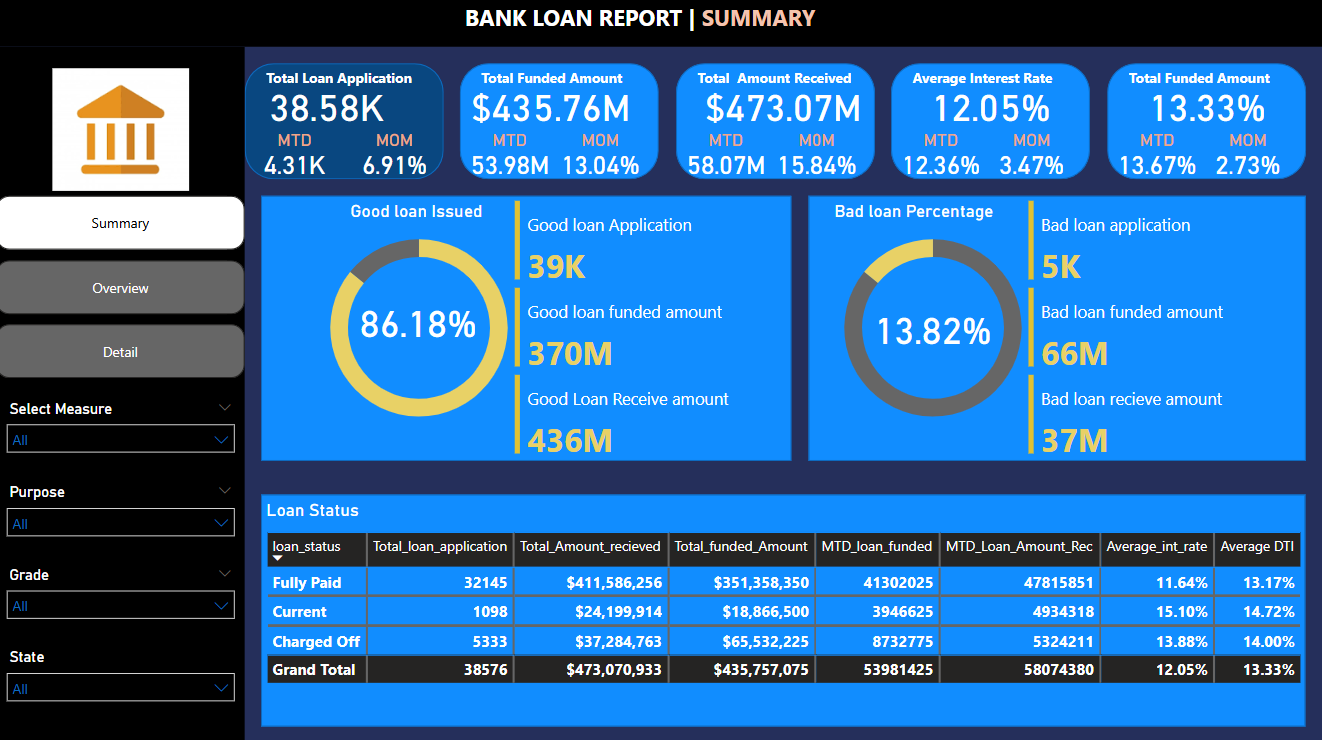

This screenshot's page, from the dashboard's own definition file:
{"tool":"powerbi","page":{"name":"Summary","canvas":[1280,720],"ordinal":0},"visuals":[{"type":"shape","box":[0,48,240,672],"z":0},{"type":"shape","box":[448,64,192,112],"z":0,"group":"g1"},{"type":"shape","box":[656,64,192,112],"z":0,"group":"g2"},{"type":"shape","box":[864,64,192,112],"z":0,"group":"g3"},{"type":"shape","box":[1072,64,192,112],"z":0,"group":"g4"},{"type":"shape","box":[0,0,1280,48],"z":1000},{"type":"card","title":"Total Funded Amount","fields":{"Values":["financial_loan.Total_funded_Amount"]},"box":[448,64,176,80],"z":1000,"group":"g1"},{"type":"card","title":"Total Funded Amount","fields":{"Values":["financial_loan.Total_Amount_recieved"]},"box":[672,64,176,80],"z":1000,"group":"g2"},{"type":"card","title":"Total Funded Amount","fields":{"Values":["financial_loan.Average_int_rate"]},"box":[896,64,128,80],"z":1000,"group":"g3"},{"type":"card","title":"Total Funded Amount","fields":{"Values":["financial_loan.Average DTI"]},"box":[1104,64,128,80],"z":1000,"group":"g4"},{"type":"textbox","box":[464,64,192,32],"z":2000,"group":"g1"},{"type":"textbox","box":[672,64,192,32],"z":2000,"group":"g2"},{"type":"textbox","box":[880,64,192,32],"z":2000,"group":"g3"},{"type":"textbox","box":[1088,64,192,32],"z":2000,"group":"g4"},{"type":"shape","box":[784,192,480,256],"z":2000},{"type":"card","title":"MTD","fields":{"Values":["financial_loan.MTD_loan_funded"]},"box":[448,128,96,48],"z":3000,"group":"g1"},{"type":"card","title":"MTD","fields":{"Values":["financial_loan.MTD_Loan_Amount_Rec"]},"box":[656,128,96,48],"z":3000,"group":"g2"},{"type":"card","title":"MTD","fields":{"Values":["financial_loan.MTD_average_Rate"]},"box":[864,128,96,48],"z":3000,"group":"g3"},{"type":"card","title":"MTD","fields":{"Values":["financial_loan.MTD DTI"]},"box":[1072,128,96,48],"z":3000,"group":"g4"},{"type":"shape","box":[256,192,512,256],"z":3000},{"type":"textbox","box":[448,0,416,48],"z":4000},{"type":"card","title":"MOM","fields":{"Values":["financial_loan.MTM_loan_funded%"]},"box":[528,128,112,48],"z":4000,"group":"g1"},{"type":"card","title":"M0M","fields":{"Values":["financial_loan.MOM_loan_Receve%"]},"box":[736,128,112,48],"z":4000,"group":"g2"},{"type":"card","title":"MOM","fields":{"Values":["financial_loan.MOM_Average%"]},"box":[944,128,112,48],"z":4000,"group":"g3"},{"type":"card","title":"MOM","fields":{"Values":["financial_loan.MOM DTI %"]},"box":[1152,128,112,48],"z":4000,"group":"g4"},{"type":"textbox","box":[784,192,208,36.3],"z":5000},{"type":"card","fields":{"Values":["financial_loan.Bad loan percentage"]},"box":[832,272,144,96],"z":6000},{"type":"textbox","box":[304,192,208,29.9],"z":7000},{"type":"shape","box":[240,64,192,112],"z":8000},{"type":"card","fields":{"Values":["financial_loan.Good loan %"]},"box":[320,251.7,176,119.5],"z":9000},{"type":"card","title":"Total Loan Aplication","fields":{"Values":["CountNonNull(financial_loan.id)"]},"box":[208,80,224,48],"z":10000},{"type":"textbox","box":[256,64,176,32],"z":11000},{"type":"card","title":"MTD","fields":{"Values":["financial_loan.MTD_Loan_app"]},"box":[240,128,96,48],"z":12000},{"type":"card","title":"MOM","fields":{"Values":["financial_loan.MTM_loan aplication"]},"box":[336,128,96,48],"z":13000},{"type":"group","id":"g1","title":"Group 1","box":[448,64,208,112],"z":14000},{"type":"group","id":"g2","title":"Group 1","box":[656,64,208,112],"z":15000},{"type":"group","id":"g3","title":"Group 1","box":[864,64,208,112],"z":16000},{"type":"donutChart","fields":{"Category":["financial_loan.Good loan Vs Bad Loan"],"Y":["Sum(financial_loan.id)"]},"box":[768,208,272,224],"z":17000},{"type":"shape","box":[256,480,1008,224],"z":18000},{"type":"group","id":"g4","title":"Group 1","box":[1072,64,192,112],"z":19000},{"type":"donutChart","fields":{"Category":["financial_loan.Good loan Vs Bad Loan"],"Y":["Sum(financial_loan.id)"]},"box":[224,208,368,224],"z":20000},{"type":"slicer","fields":{"Values":["financial_loan.purpose"]},"box":[0,464,240,80],"z":21000},{"type":"slicer","fields":{"Values":["financial_loan.grade"]},"box":[0,544,240,80],"z":22000},{"type":"slicer","fields":{"Values":["financial_loan.address_state"]},"box":[0,624,240,80],"z":23000},{"type":"tableEx","fields":{"Values":["financial_loan.loan_status","financial_loan.Total_loan_application","financial_loan.Total_Amount_recieved","financial_loan.Total_funded_Amount","financial_loan.MTD_loan_funded","financial_loan.MTD_Loan_Amount_Rec","financial_loan.Average_int_rate","financial_loan.Average DTI"]},"box":[256,512,1008,192],"z":24000},{"type":"cardVisual","fields":{"Data":["financial_loan.Good loan","financial_loan.Good loan funded amount","financial_loan.Good Loan Receive amount"]},"box":[496,192,288,256],"z":25000},{"type":"cardVisual","fields":{"Data":["financial_loan.Bad loan application","financial_loan.Bad loan funded amount","financial_loan.Bad loan recieve amount"]},"box":[992,192,288,256],"z":26000},{"type":"slicer","fields":{"Values":["Select measure.Select measure"]},"box":[0,384,240,64],"z":27000},{"type":"textbox","box":[256,480,208,32],"z":28000},{"type":"pageNavigator","box":[0,192,240,176],"z":29000},{"type":"image","box":[0,64,240,128],"z":29001}]}

Visuals, with their boxes in screenshot pixels (x1, y1, x2, y2), scaled from the page's 1280x720 canvas onto the 1322x740 screenshot:
shape: [x1=0, y1=49, x2=248, y2=739]
shape: [x1=463, y1=66, x2=661, y2=181]
shape: [x1=678, y1=66, x2=876, y2=181]
shape: [x1=892, y1=66, x2=1091, y2=181]
shape: [x1=1107, y1=66, x2=1305, y2=181]
shape: [x1=0, y1=0, x2=1321, y2=49]
"Total Funded Amount" card: [x1=463, y1=66, x2=644, y2=148]
"Total Funded Amount" card: [x1=694, y1=66, x2=876, y2=148]
"Total Funded Amount" card: [x1=925, y1=66, x2=1058, y2=148]
"Total Funded Amount" card: [x1=1140, y1=66, x2=1272, y2=148]
textbox: [x1=479, y1=66, x2=678, y2=99]
textbox: [x1=694, y1=66, x2=892, y2=99]
textbox: [x1=909, y1=66, x2=1107, y2=99]
textbox: [x1=1124, y1=66, x2=1321, y2=99]
shape: [x1=810, y1=197, x2=1305, y2=460]
"MTD" card: [x1=463, y1=132, x2=562, y2=181]
"MTD" card: [x1=678, y1=132, x2=777, y2=181]
"MTD" card: [x1=892, y1=132, x2=991, y2=181]
"MTD" card: [x1=1107, y1=132, x2=1206, y2=181]
shape: [x1=264, y1=197, x2=793, y2=460]
textbox: [x1=463, y1=0, x2=892, y2=49]
"MOM" card: [x1=545, y1=132, x2=661, y2=181]
"M0M" card: [x1=760, y1=132, x2=876, y2=181]
"MOM" card: [x1=975, y1=132, x2=1091, y2=181]
"MOM" card: [x1=1190, y1=132, x2=1305, y2=181]
textbox: [x1=810, y1=197, x2=1025, y2=235]
card - financial_loan.Bad loan percentage: [x1=859, y1=280, x2=1008, y2=378]
textbox: [x1=314, y1=197, x2=529, y2=228]
shape: [x1=248, y1=66, x2=446, y2=181]
card - financial_loan.Good loan %: [x1=330, y1=259, x2=512, y2=382]
"Total Loan Aplication" card: [x1=215, y1=82, x2=446, y2=132]
textbox: [x1=264, y1=66, x2=446, y2=99]
"MTD" card: [x1=248, y1=132, x2=347, y2=181]
"MOM" card: [x1=347, y1=132, x2=446, y2=181]
"Group 1" group: [x1=463, y1=66, x2=678, y2=181]
"Group 1" group: [x1=678, y1=66, x2=892, y2=181]
"Group 1" group: [x1=892, y1=66, x2=1107, y2=181]
donutChart - financial_loan.Good loan Vs Bad Loan x Sum(financial_loan.id): [x1=793, y1=214, x2=1074, y2=444]
shape: [x1=264, y1=493, x2=1305, y2=724]
"Group 1" group: [x1=1107, y1=66, x2=1305, y2=181]
donutChart - financial_loan.Good loan Vs Bad Loan x Sum(financial_loan.id): [x1=231, y1=214, x2=611, y2=444]
slicer - financial_loan.purpose: [x1=0, y1=477, x2=248, y2=559]
slicer - financial_loan.grade: [x1=0, y1=559, x2=248, y2=641]
slicer - financial_loan.address_state: [x1=0, y1=641, x2=248, y2=724]
tableEx - financial_loan.loan_status x financial_loan.Total_loan_application: [x1=264, y1=526, x2=1305, y2=724]
cardVisual - financial_loan.Good loan x financial_loan.Good loan funded amount: [x1=512, y1=197, x2=810, y2=460]
cardVisual - financial_loan.Bad loan application x financial_loan.Bad loan funded amount: [x1=1025, y1=197, x2=1321, y2=460]
slicer - Select measure.Select measure: [x1=0, y1=395, x2=248, y2=460]
textbox: [x1=264, y1=493, x2=479, y2=526]
pageNavigator: [x1=0, y1=197, x2=248, y2=378]
image: [x1=0, y1=66, x2=248, y2=197]
